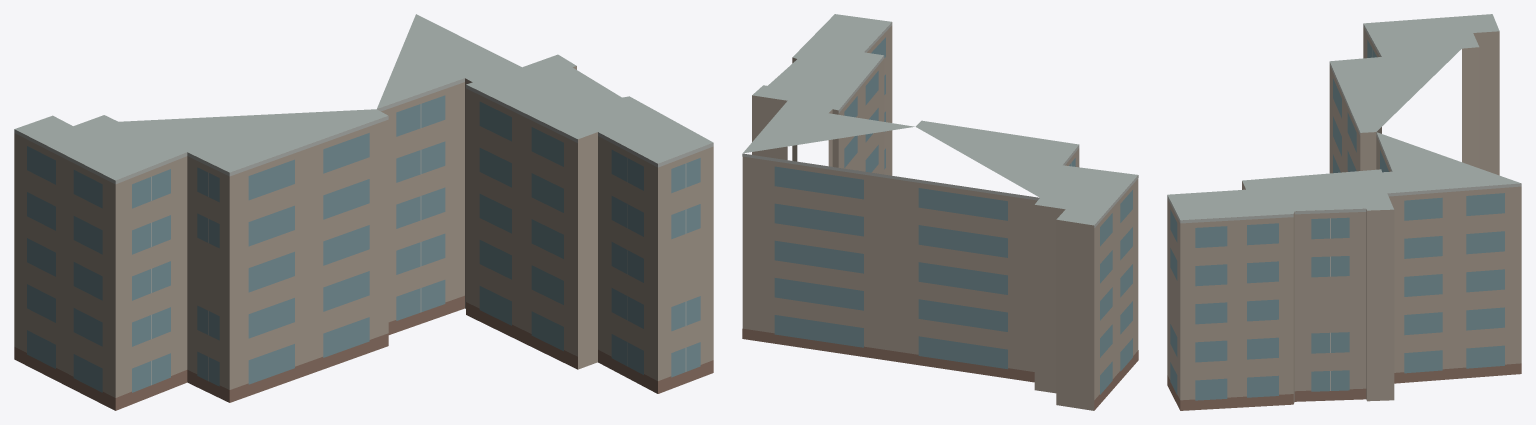
Rendered from survey-upis-32914939.glb.
The picture shows the model from 3 angles, left to right: view 1: azimuth 30°, elevation 25°; view 2: azimuth 150°, elevation 25°; view 3: azimuth 270°, elevation 25°; orthographic projection. The views are drawn at different scales.
Parts seen in each view (by area): view 1: survey-upis-32914939.tmp; view 2: survey-upis-32914939.tmp; view 3: survey-upis-32914939.tmp.
Boxes of the visible parts, <box> form: survey-upis-32914939.tmp: <box>14,14,713,410</box>; survey-upis-32914939.tmp: <box>742,14,1138,410</box>; survey-upis-32914939.tmp: <box>1167,14,1521,410</box>.
Size of the model in its own units: 33.89 by 14.6 by 24.6.
